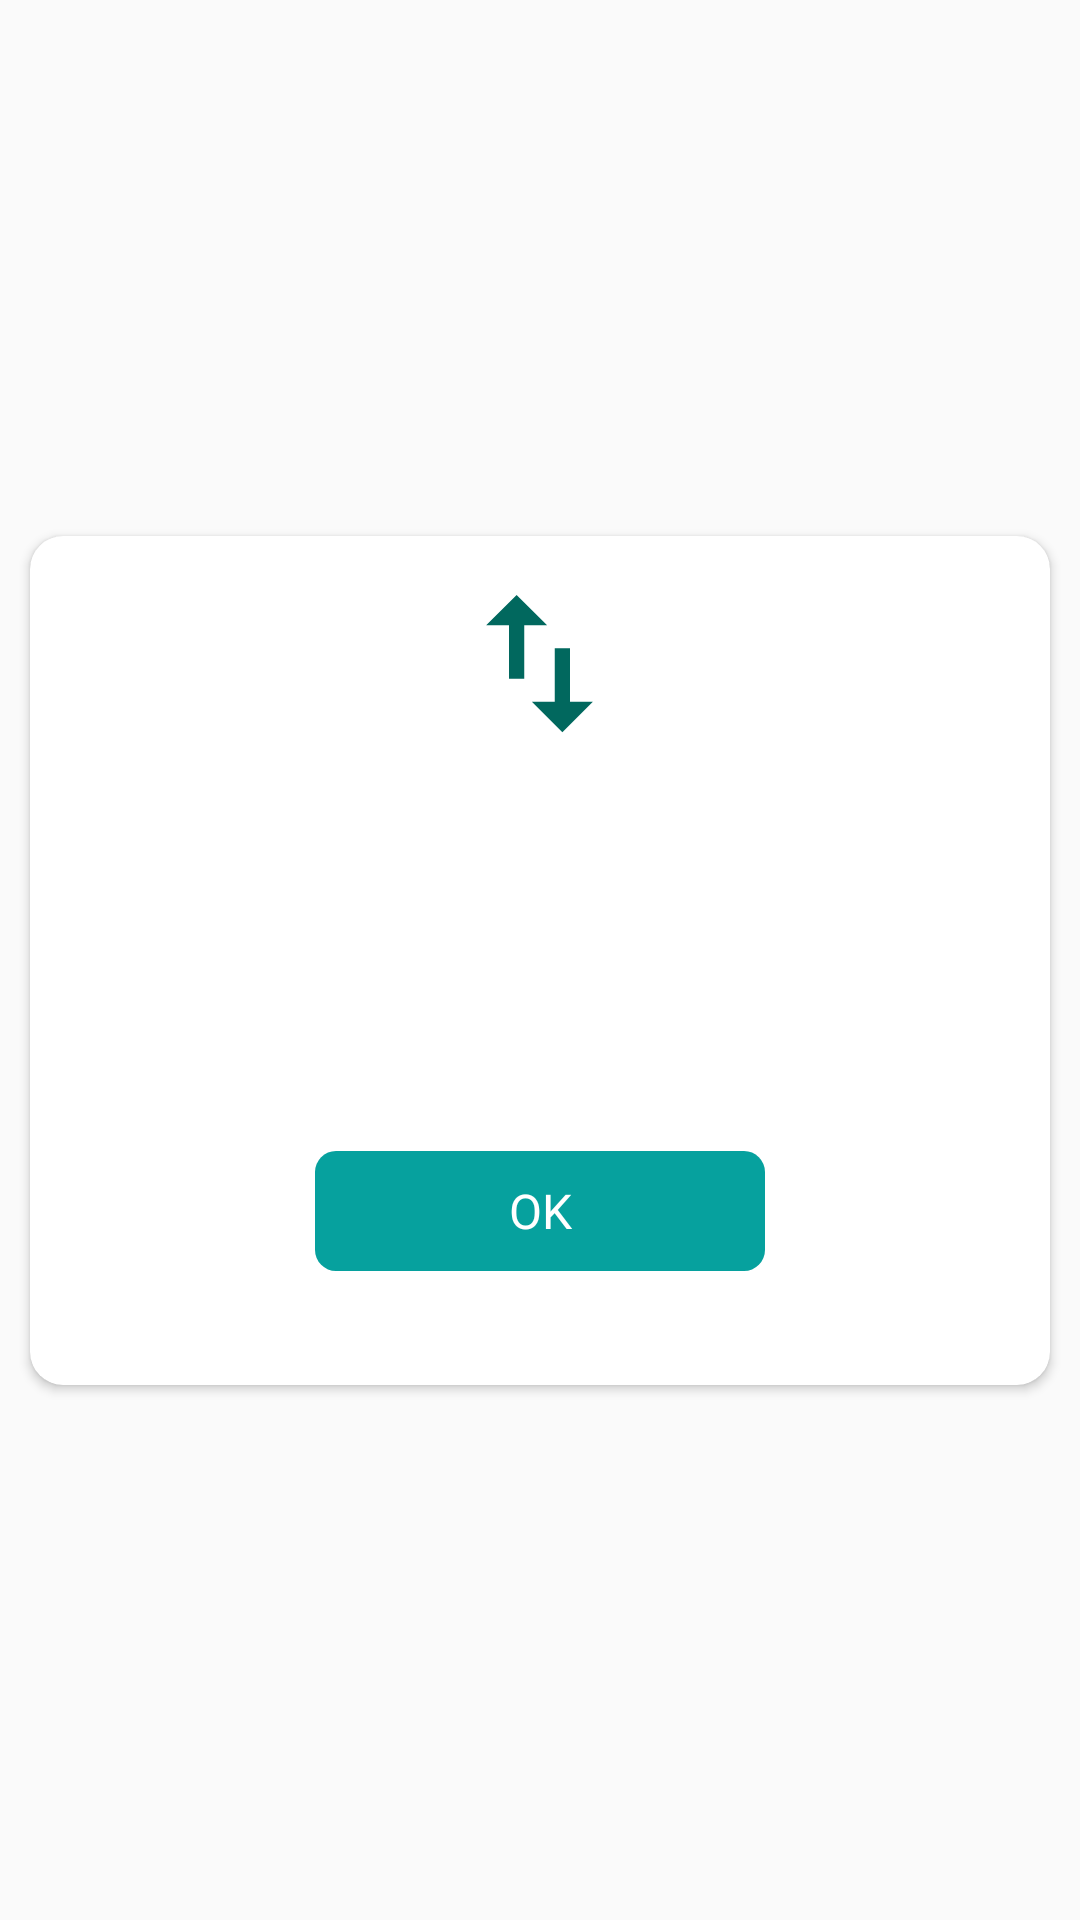

Where to tap for icons on this 1080x1920 app screen, as point (x, y):
import export: point (539, 663)
